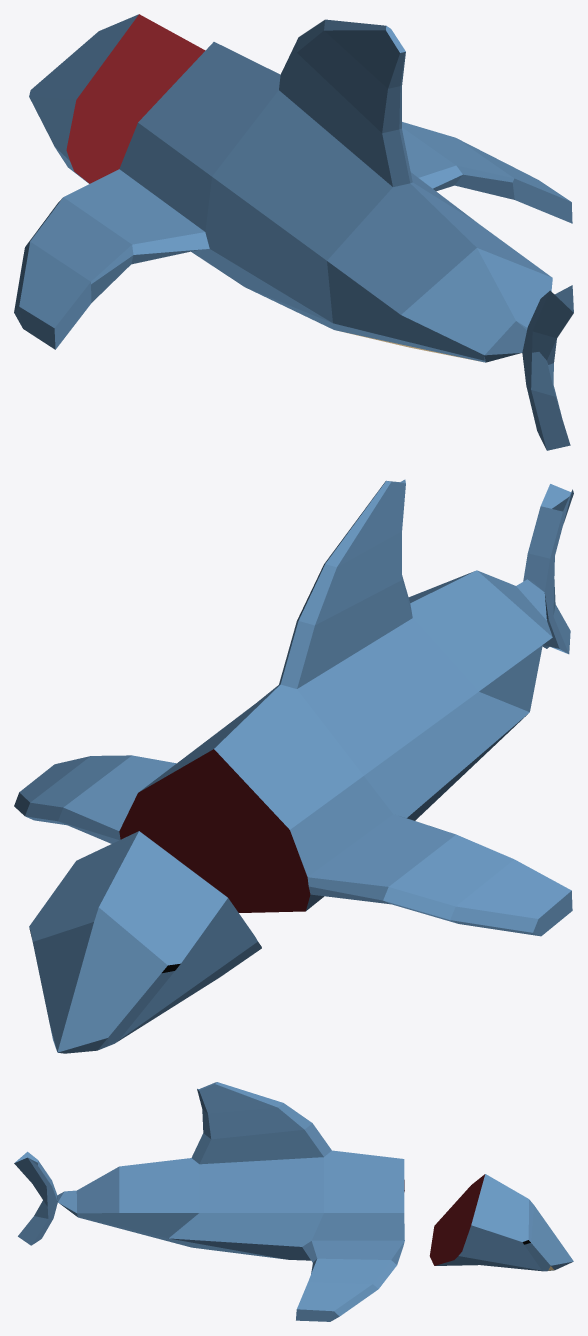
The model's file is DeadShark.glb.
3 views of the same model, one above another, from view 1: azimuth 30°, elevation 25°; view 2: azimuth 150°, elevation 25°; view 3: azimuth 270°, elevation 25° (orthographic). The views are drawn at different scales.
Visible parts, largest first — view 1: Cube.004; view 2: Cube.004; view 3: Cube.004.
Boxes of the visible parts, x1,y1,x2,y2 form: Cube.004: (14,14,573,450); Cube.004: (14,479,573,1053); Cube.004: (14,1082,573,1321).
Size of the model in its own units: 2.56 by 1.59 by 4.41.
